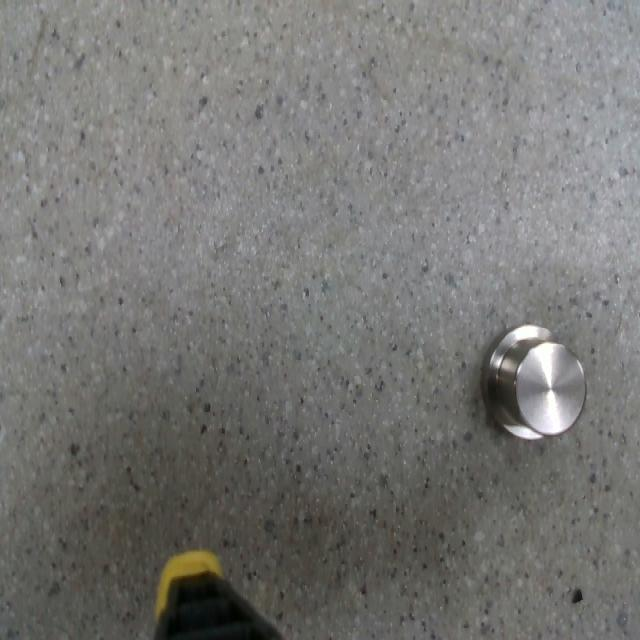sensor: (480, 323, 588, 442)
